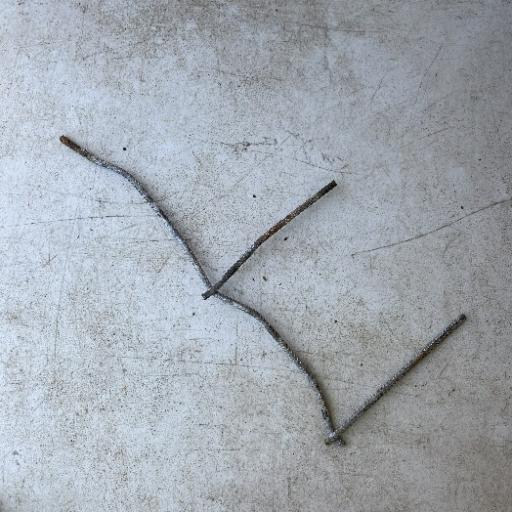Metal: (55, 131, 470, 447)
